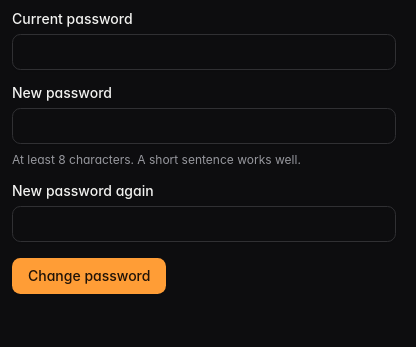
Test case: the change password form › says something went wrong when the failure is not the server speaking
Type "old password" into the password field labelled "Current password" at (204, 52), box [12,34,396,70]
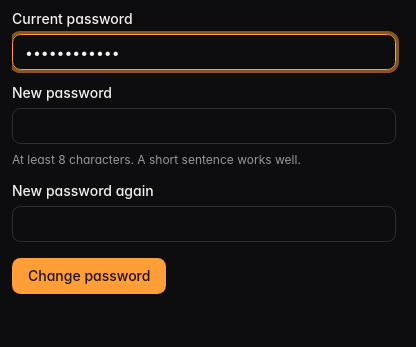
Type "a new sentence" into the password field labelled "New password" at (204, 126), box [12,108,396,144]
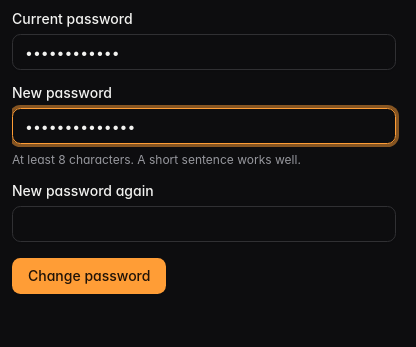
Type "a new sentence" into the password field labelled "New password again" at (204, 224), box [12,206,396,242]
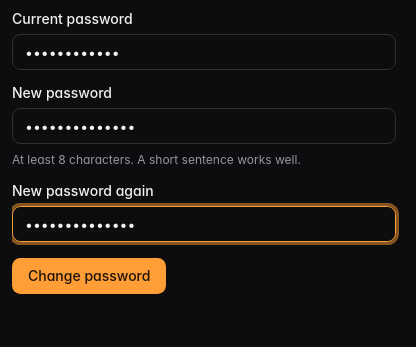
Click the button "Change password" at (89, 276), box [12,258,166,294]
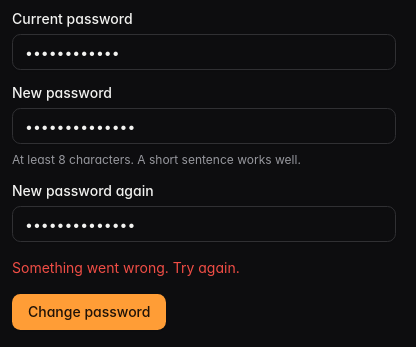
Expected: the message reads "Something went wrong. Try again.", [12,259,240,276]
